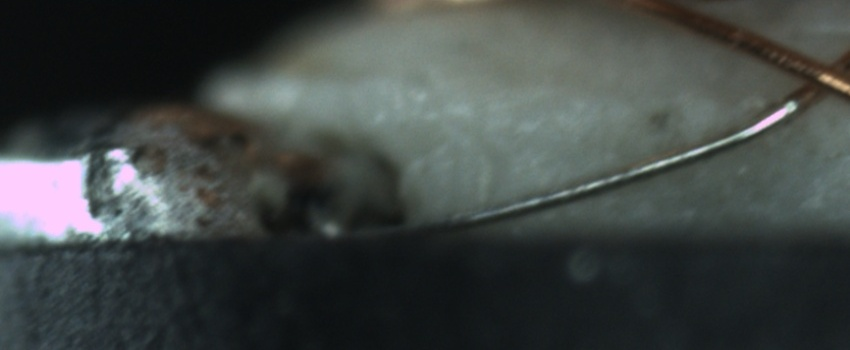CL: (769, 38, 848, 111)
DL: (477, 73, 765, 123)
TS: (325, 101, 795, 238)
